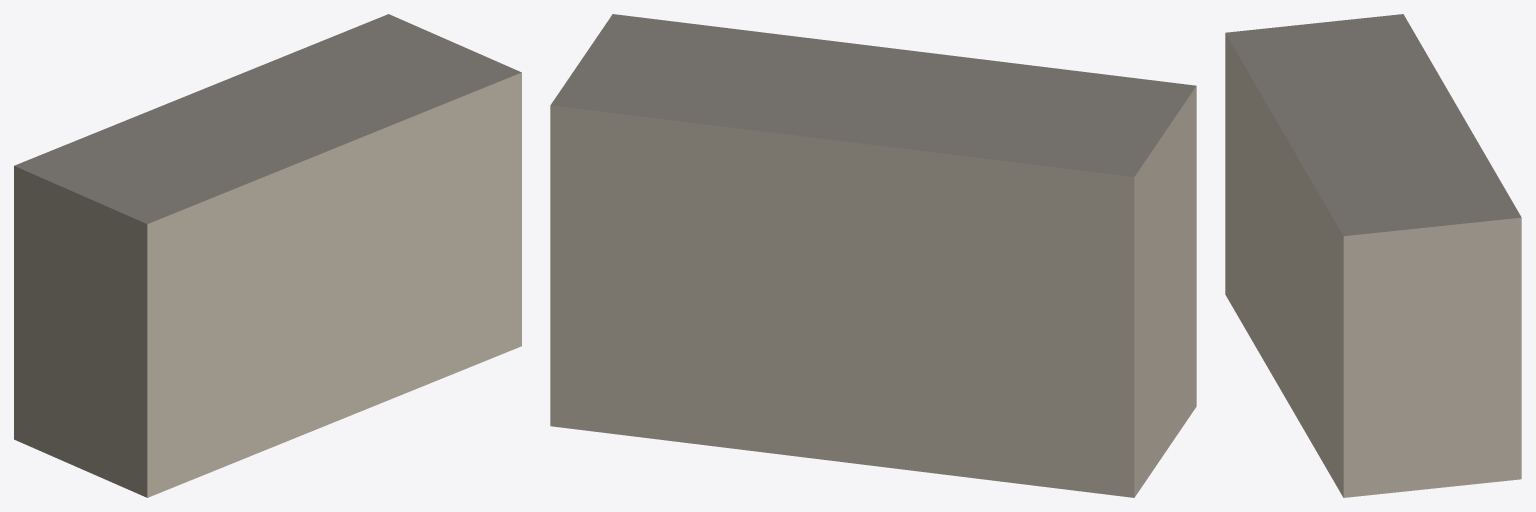
3 views of the same model, side by side, from view 1: azimuth 30°, elevation 25°; view 2: azimuth 150°, elevation 25°; view 3: azimuth 270°, elevation 25° (orthographic). The views are drawn at different scales.
Parts seen in each view (by area): view 1: HP-w446936780; view 2: HP-w446936780; view 3: HP-w446936780.
Boxes of the visible parts, left/top/right/bottom form: HP-w446936780: left=14, top=14, right=521, bottom=497; HP-w446936780: left=550, top=14, right=1196, bottom=497; HP-w446936780: left=1225, top=14, right=1521, bottom=497.
Bounding box in the file's own units: 32.79 × 18 × 18.48.
